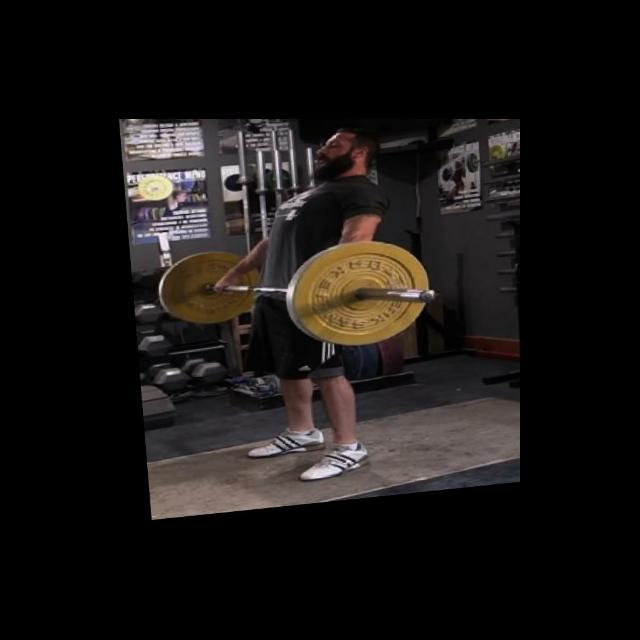barbell: (281, 237, 437, 360)
